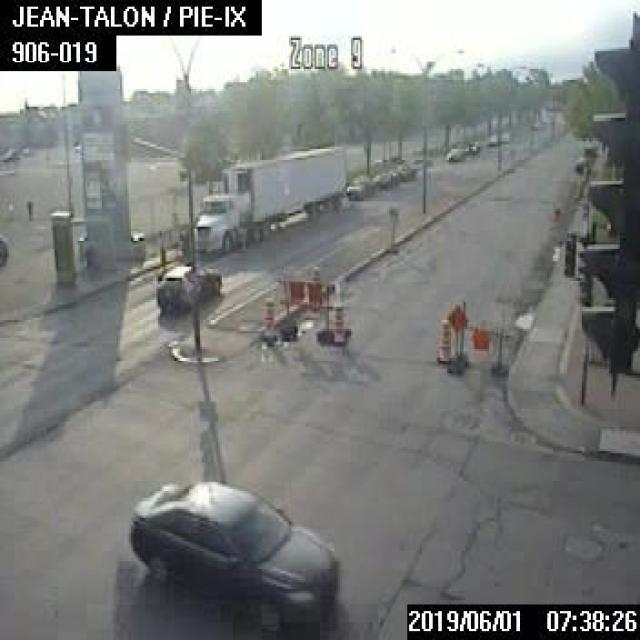construction: (274, 265, 348, 342), (445, 296, 510, 378), (432, 316, 453, 362), (259, 292, 274, 340), (331, 299, 346, 342)
pedestrian: (25, 197, 31, 220)
vehicle: (129, 477, 342, 626), (191, 144, 344, 254), (152, 262, 222, 314), (344, 172, 371, 198), (371, 168, 396, 188), (391, 160, 413, 181), (445, 146, 464, 160), (463, 140, 479, 154), (0, 232, 5, 265), (485, 134, 497, 145), (498, 132, 509, 143)
